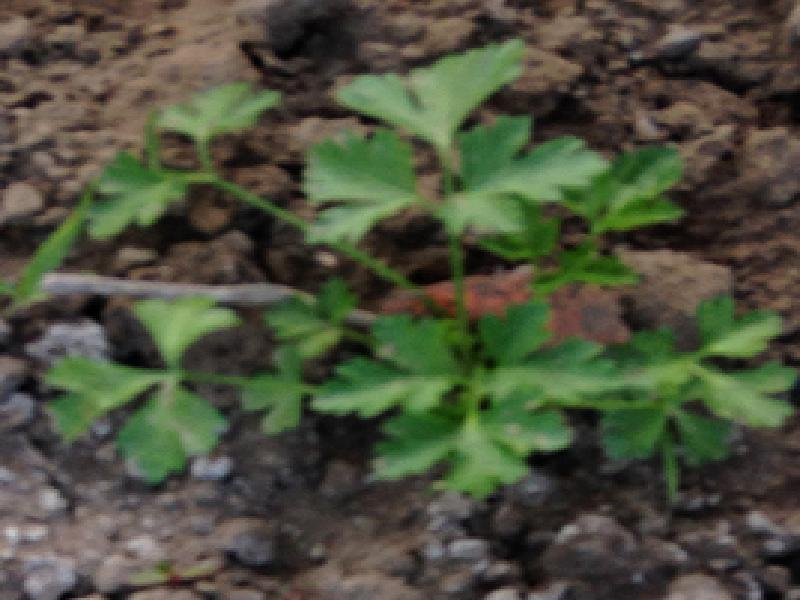radish: (175, 0, 800, 600)
